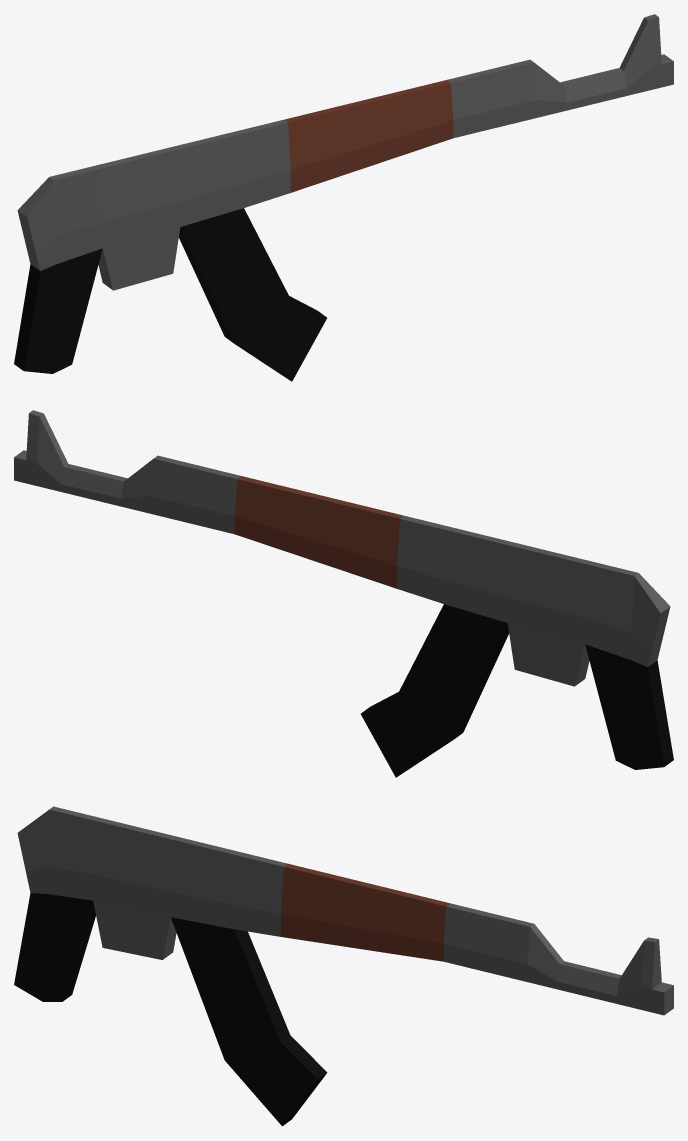
Rendered from sunrise_002.fbx.
3 views of the same model, one above another, from view 1: azimuth 30°, elevation 25°; view 2: azimuth 150°, elevation 25°; view 3: azimuth 330°, elevation 25° (orthographic).
Parts seen in each view (by area): view 1: Cube; view 2: Cube; view 3: Cube.
Boxes of the visible parts, x1,y1,x2,y2 form: Cube: (14,14,673,381); Cube: (14,410,673,777); Cube: (14,806,673,1126).
Size of the model in its own units: 481 by 193 by 13.7.
